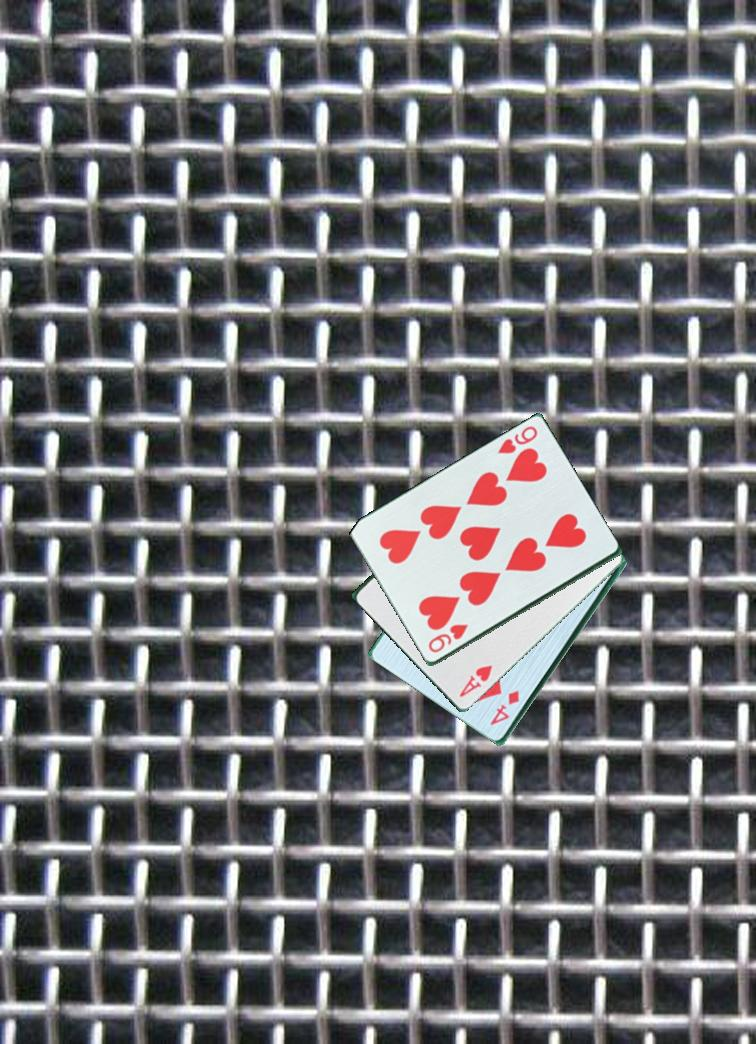4d: (487, 687, 523, 729)
9h: (492, 423, 540, 460), (424, 621, 471, 656)
ah: (456, 662, 497, 701)
